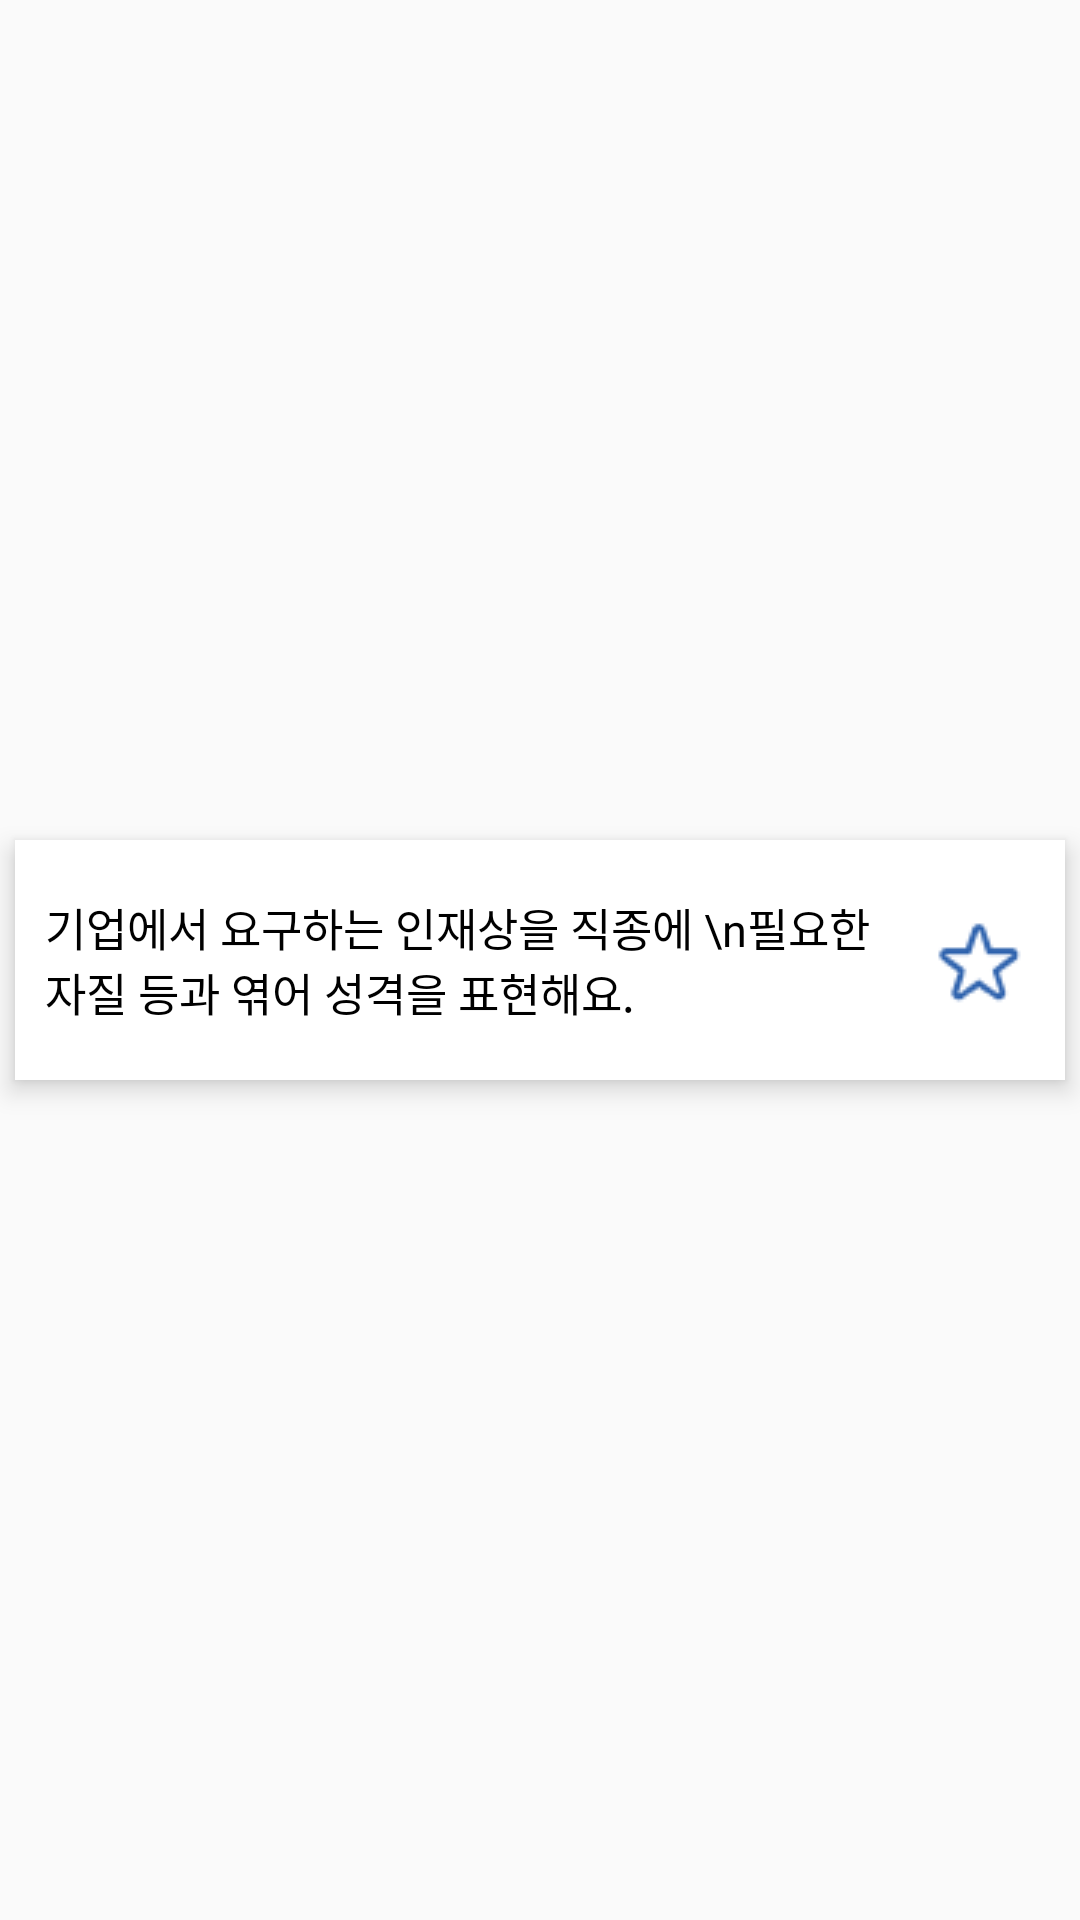

Icon click points for this 1080px x 1920px phone screenshot, format (x=x, y=y):
star off: (x=979, y=962)
